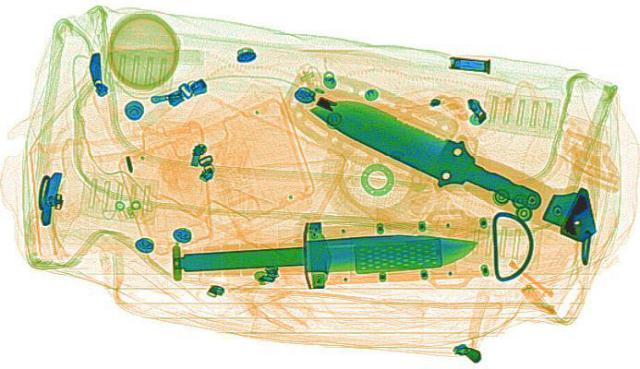Knife: (278, 83, 568, 220), (150, 209, 488, 299)
